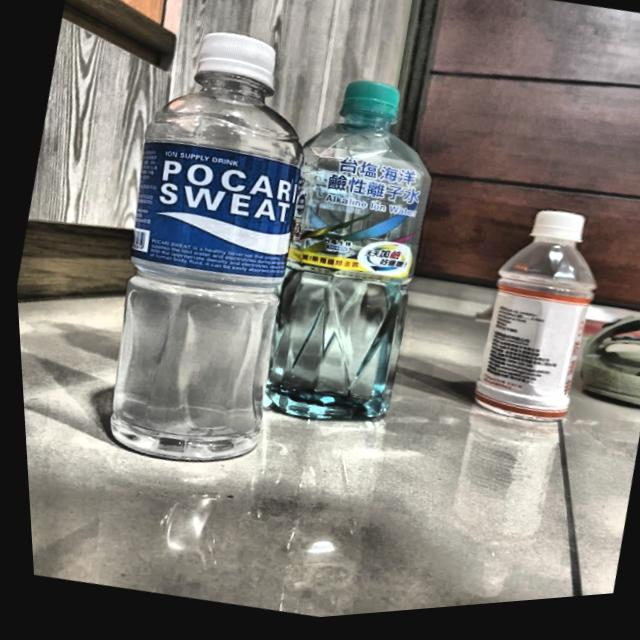Bottles: (45, 0, 383, 503), (212, 48, 493, 461), (414, 178, 640, 487)
